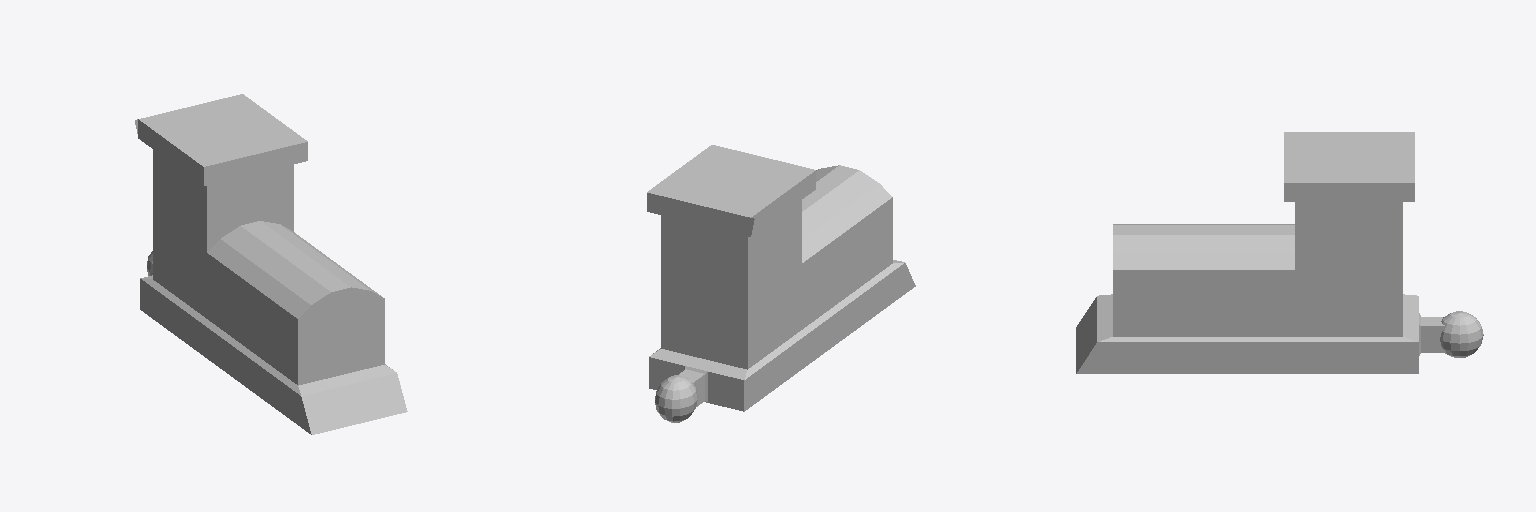
Rendered from train_engine_body.obj.
3 views of the same model, side by side, from view 1: azimuth 30°, elevation 25°; view 2: azimuth 150°, elevation 25°; view 3: azimuth 270°, elevation 25° (orthographic).
Visible parts, largest first — view 1: Train_Body; view 2: Train_Body; view 3: Train_Body.
Boxes of the visible parts, x1=… form: Train_Body: x1=135, y1=94, x2=407, y2=434; Train_Body: x1=647, y1=145, x2=915, y2=422; Train_Body: x1=1076, y1=132, x2=1483, y2=373.
Bounding box in the file's own units: 0.3875 × 0.683 × 1.26.